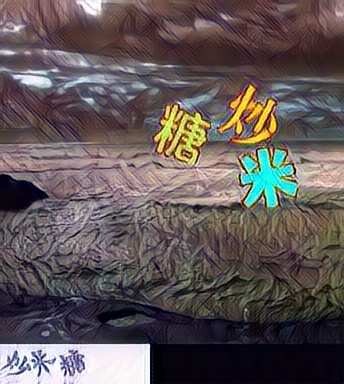B3B4: (217, 82, 282, 146)
C3D7: (237, 145, 302, 209)
CCC7: (152, 101, 217, 165)
